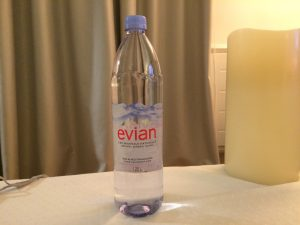bottle: (109, 9, 170, 220)
